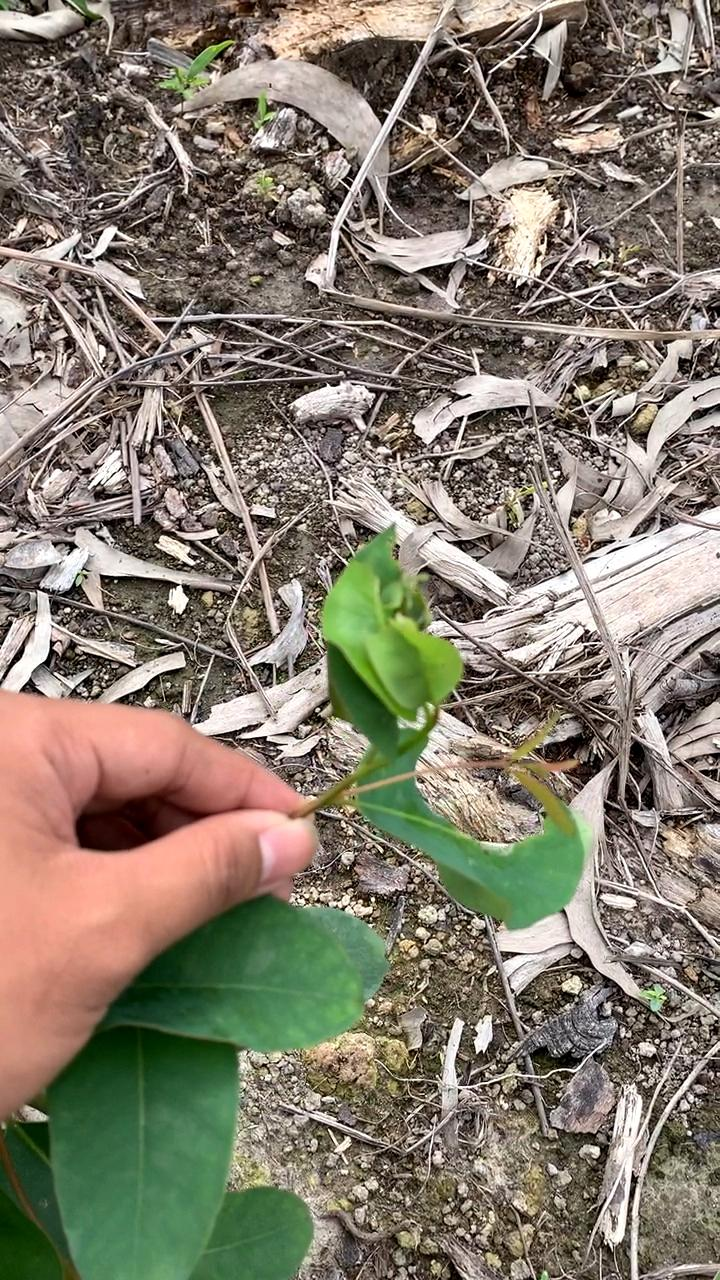Leaf Roller - Leaf: (326, 538, 453, 775)
